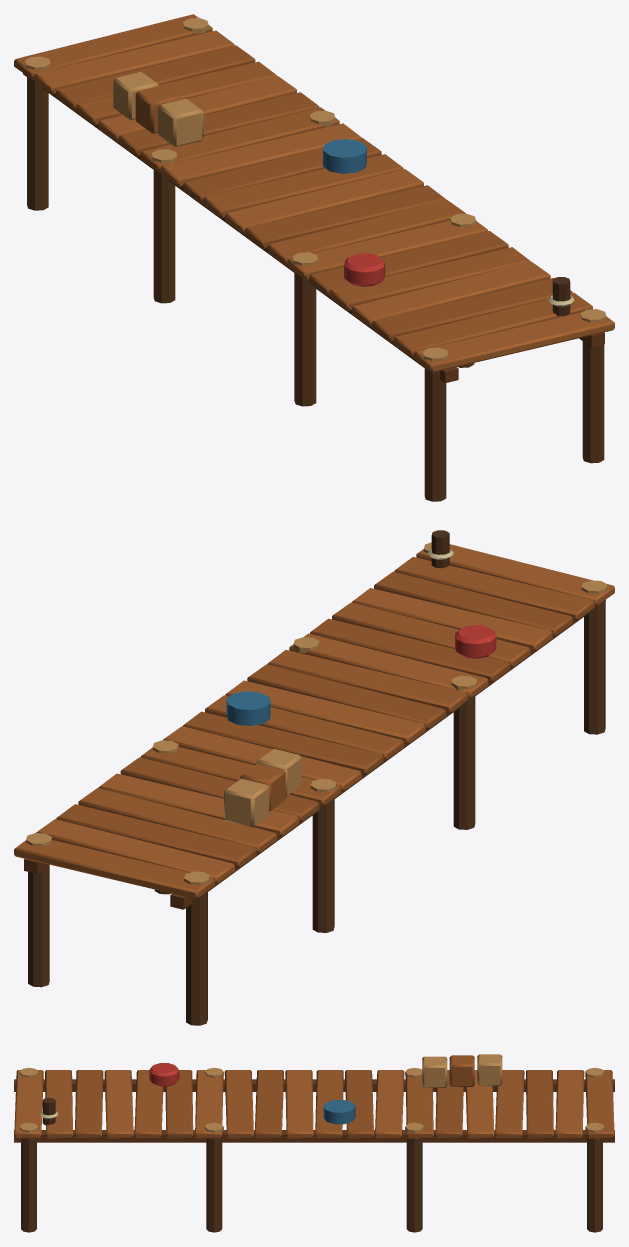
The model's file is p_jetty.glb.
3 renders of one model, top to bottom at view 1: azimuth 30°, elevation 25°; view 2: azimuth 150°, elevation 25°; view 3: azimuth 270°, elevation 25°, orthographic. The views are drawn at different scales.
Visible parts, largest first — view 1: body; view 2: body; view 3: body.
Part boxes in pixels (bbox=[...]): body: bbox=[14, 14, 614, 501]; body: bbox=[14, 530, 614, 1025]; body: bbox=[14, 1054, 614, 1232].
Bounding box in the file's own units: 3.01 × 2.73 × 12.
